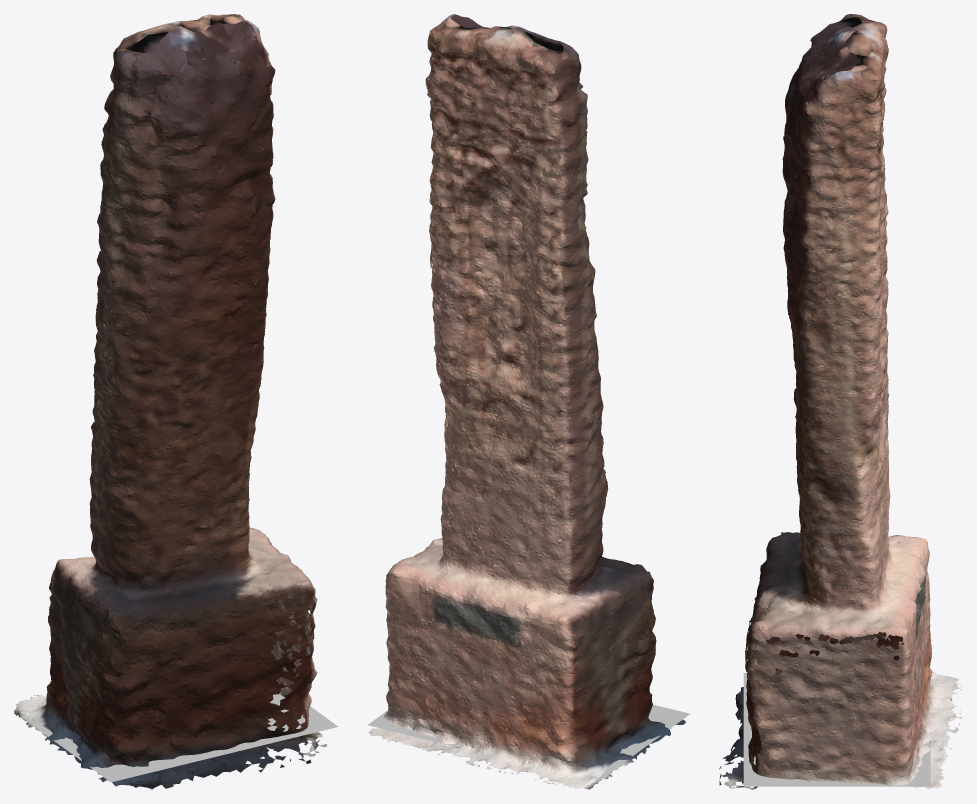
File: postprocessed.obj
The picture shows the model from 3 angles, left to right: view 1: azimuth 30°, elevation 25°; view 2: azimuth 150°, elevation 25°; view 3: azimuth 270°, elevation 25°; orthographic projection. The views are drawn at different scales.
Parts seen in each view (by area): view 1: texturedMesh, Plane; view 2: texturedMesh, Plane; view 3: texturedMesh, Plane.
Part boxes in pixels (bbox=[...]): texturedMesh: bbox=[14, 14, 326, 789]; Plane: bbox=[20, 693, 338, 782]; texturedMesh: bbox=[368, 14, 686, 789]; Plane: bbox=[367, 704, 690, 781]; texturedMesh: bbox=[719, 14, 962, 789]; Plane: bbox=[743, 673, 930, 786].
Size of the model in its own units: 0.2747 by 0.7975 by 0.2429.
2 materials, 1 textured.
